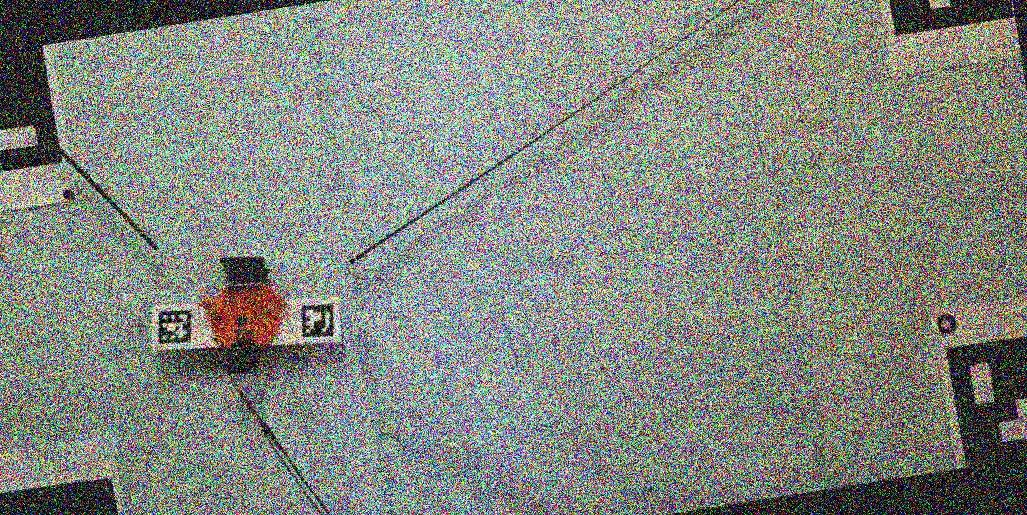robot: (200, 257, 290, 375)
